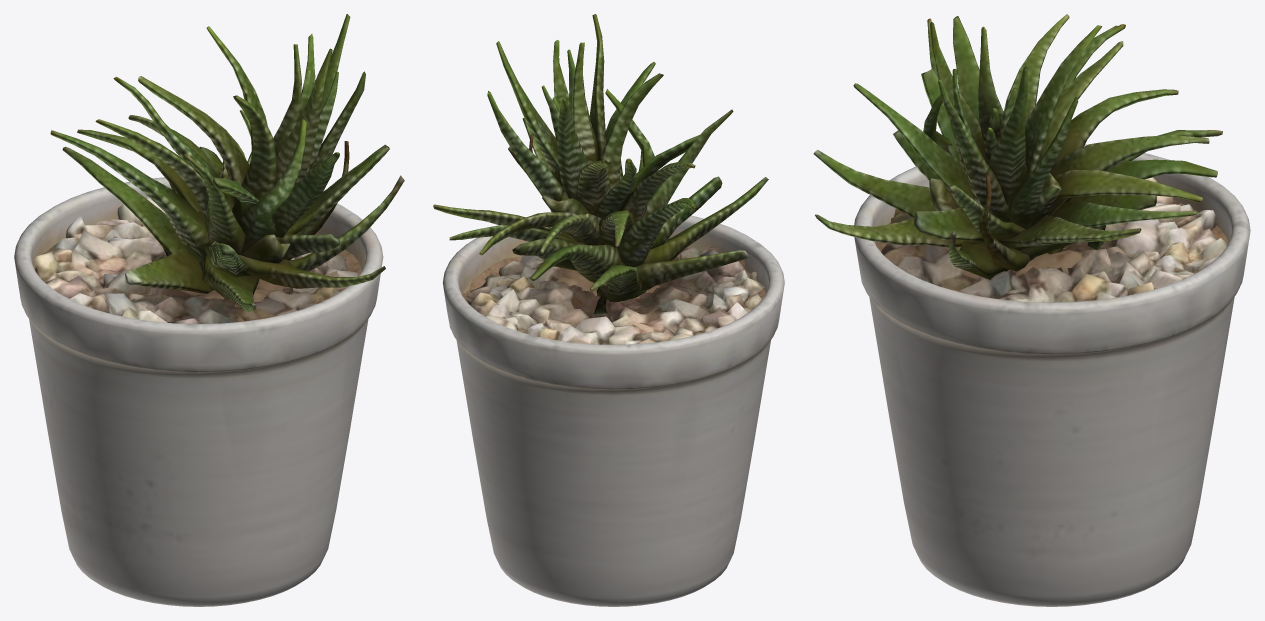
Rendered from potted_plant_04.glb.
The picture shows the model from 3 angles, left to right: view 1: azimuth 30°, elevation 25°; view 2: azimuth 150°, elevation 25°; view 3: azimuth 270°, elevation 25°; orthographic projection. The views are drawn at different scales.
Parts seen in each view (by area): view 1: potted_plant_04_pot, potted_plant_04_plant, potted_plant_04_ground, potted_plant_04_dirt; view 2: potted_plant_04_pot, potted_plant_04_plant, potted_plant_04_ground, potted_plant_04_dirt; view 3: potted_plant_04_pot, potted_plant_04_plant, potted_plant_04_ground, potted_plant_04_dirt.
Part boxes in pixels (x1=…): potted_plant_04_pot: x1=14, y1=177, x2=383, y2=606; potted_plant_04_plant: x1=50, y1=14, x2=404, y2=311; potted_plant_04_ground: x1=34, y1=196, x2=357, y2=323; potted_plant_04_dirt: x1=34, y1=238, x2=362, y2=307; potted_plant_04_pot: x1=442, y1=215, x2=784, y2=606; potted_plant_04_plant: x1=433, y1=14, x2=768, y2=314; potted_plant_04_ground: x1=463, y1=247, x2=765, y2=344; potted_plant_04_dirt: x1=462, y1=247, x2=765, y2=306; potted_plant_04_pot: x1=854, y1=144, x2=1250, y2=606; potted_plant_04_plant: x1=813, y1=14, x2=1222, y2=279; potted_plant_04_ground: x1=881, y1=177, x2=1227, y2=302; potted_plant_04_dirt: x1=875, y1=200, x2=1228, y2=297.
Bounding box in the file's own units: 0.1679 × 0.2675 × 0.1848.
1 material, 1 textured.
